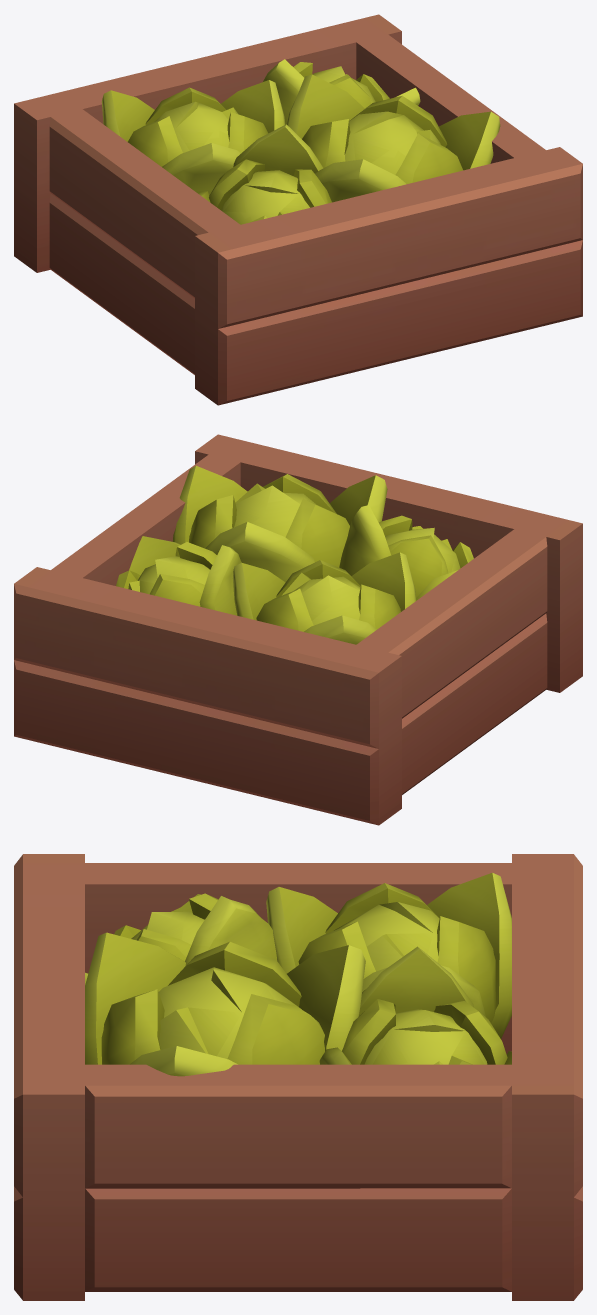
The model's file is kaykit-restaurant-bits-crate-lettuce.glb.
3 views of the same model, one above another, from view 1: azimuth 30°, elevation 25°; view 2: azimuth 150°, elevation 25°; view 3: azimuth 270°, elevation 25° (orthographic). The views are drawn at different scales.
Visible parts, largest first — view 1: crate_lettuce; view 2: crate_lettuce; view 3: crate_lettuce.
Part boxes in pixels (box(x1,y1,x2,y2)): crate_lettuce: box(14, 14, 582, 405); crate_lettuce: box(14, 434, 582, 825); crate_lettuce: box(14, 854, 582, 1300).
Size of the model in its own units: 2 by 0.9981 by 2.
Materials: 1 (1 with a texture image).
